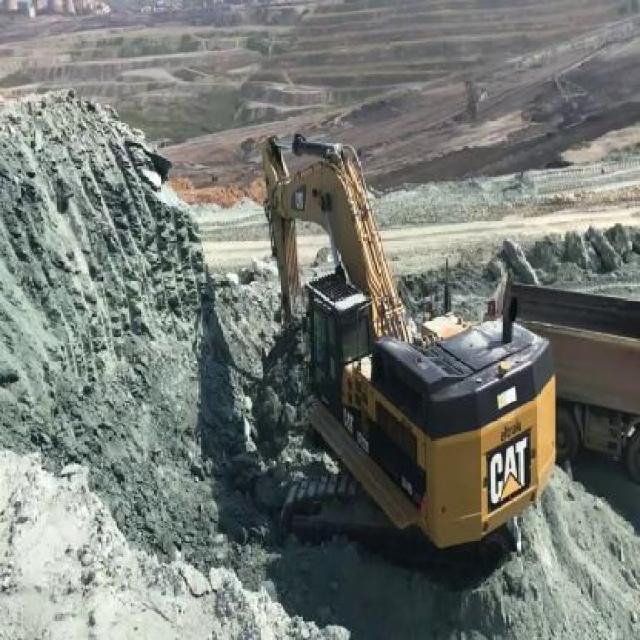Dump Truck: (486, 270, 640, 476)
Excavator: (257, 135, 554, 588)
